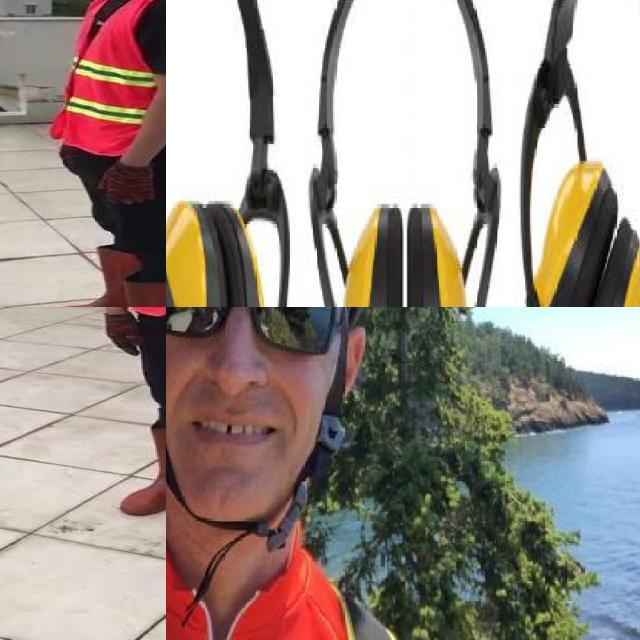Ear-protection: (317, 0, 509, 307), (166, 0, 292, 307), (532, 0, 640, 307)
boots: (52, 247, 139, 307), (119, 426, 166, 515), (79, 281, 166, 307)
face_nomask: (166, 307, 323, 467)
glasses: (166, 307, 348, 366)
hand_glove: (97, 163, 157, 204), (102, 311, 143, 358)
person: (166, 307, 407, 640), (33, 0, 166, 307), (95, 307, 166, 535)
vest: (57, 0, 166, 157)
